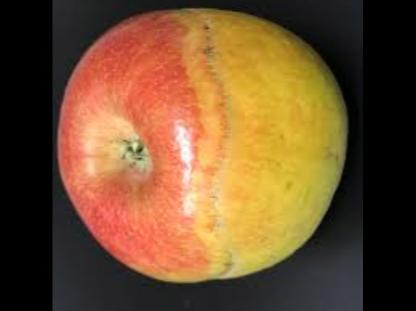defect: (163, 0, 354, 278)
